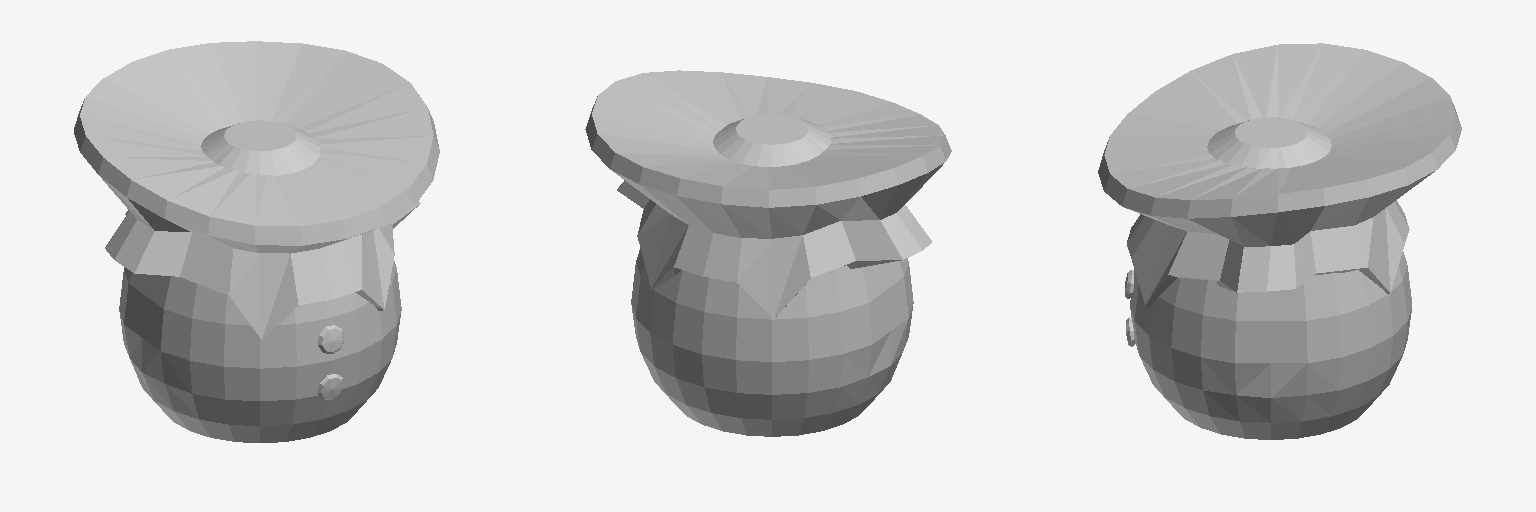
File: character_jack.obj
The picture shows the model from 3 angles: view 1: azimuth 30°, elevation 25°; view 2: azimuth 150°, elevation 25°; view 3: azimuth 270°, elevation 25°; orthographic projection.
Parts seen in each view (by area): view 1: character_jack_Cube.028; view 2: character_jack_Cube.028; view 3: character_jack_Cube.028.
Boxes of the visible parts, x1=… form: character_jack_Cube.028: x1=74, y1=41, x2=439, y2=442; character_jack_Cube.028: x1=585, y1=70, x2=951, y2=436; character_jack_Cube.028: x1=1098, y1=43, x2=1461, y2=439.
Bounding box in the file's own units: 0.9099 × 0.776 × 0.9023.